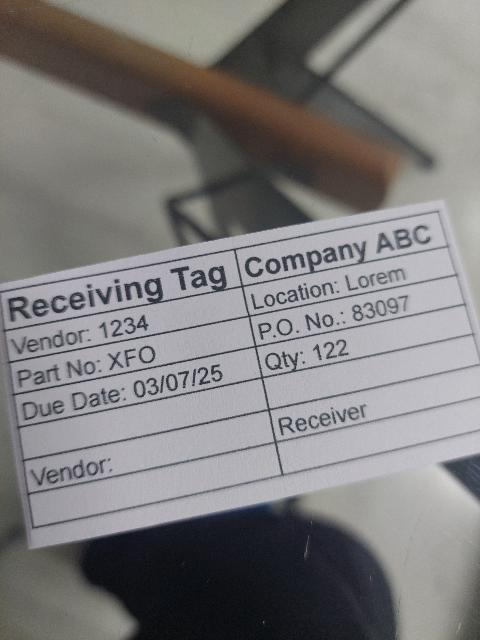PO no: (251, 274, 466, 347)
part no: (10, 318, 255, 394)
qty: (254, 304, 473, 377)
tags: (0, 201, 480, 554)
